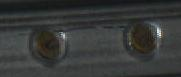joints: (26, 24, 67, 63), (124, 18, 163, 54)
